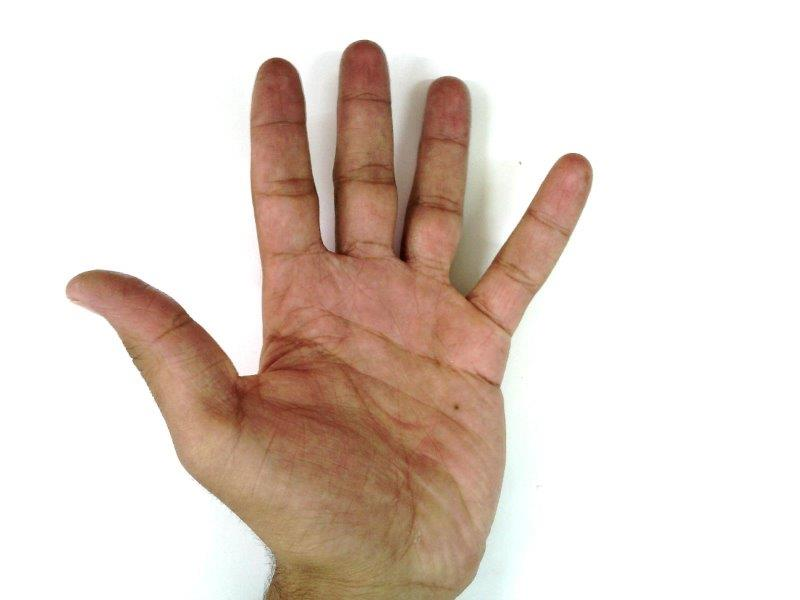hand: (66, 41, 593, 585)
